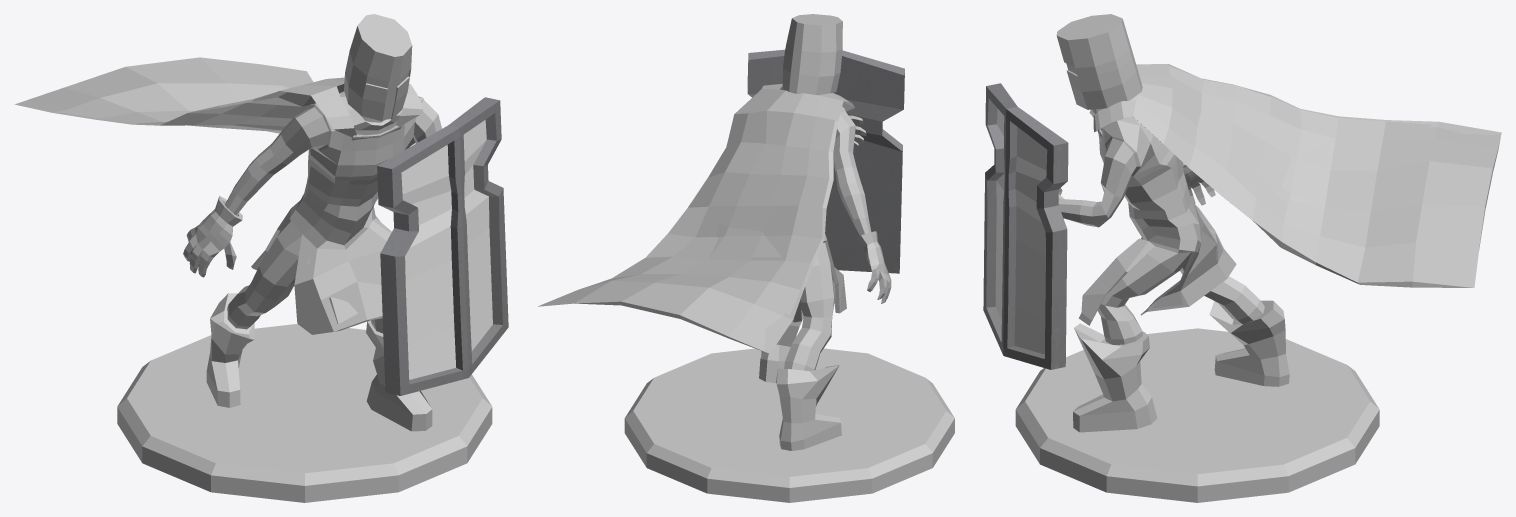
File: Templar_Shield.fbx
3 renders of one model, left to right at view 1: azimuth 30°, elevation 25°; view 2: azimuth 150°, elevation 25°; view 3: azimuth 270°, elevation 25°, orthographic. The views are drawn at different scales.
Parts seen in each view (by area): view 1: Base4, Templar_Shield, Shield, Cape; view 2: Cape, Base4, Templar_Shield, Shield; view 3: Cape, Base4, Templar_Shield, Shield.
Part boxes in pixels (x1=…): Base4: x1=117, y1=324, x2=492, y2=502; Templar_Shield: x1=183, y1=14, x2=441, y2=431; Shield: x1=377, y1=97, x2=508, y2=395; Cape: x1=14, y1=57, x2=423, y2=136; Cape: x1=538, y1=83, x2=854, y2=353; Base4: x1=624, y1=348, x2=954, y2=502; Templar_Shield: x1=759, y1=14, x2=891, y2=450; Shield: x1=747, y1=49, x2=904, y2=273; Cape: x1=1093, y1=64, x2=1501, y2=287; Base4: x1=1015, y1=328, x2=1379, y2=502; Templar_Shield: x1=1056, y1=14, x2=1289, y2=432; Shield: x1=983, y1=83, x2=1068, y2=369.
Bounding box in the file's own units: 200 × 254 × 285.
